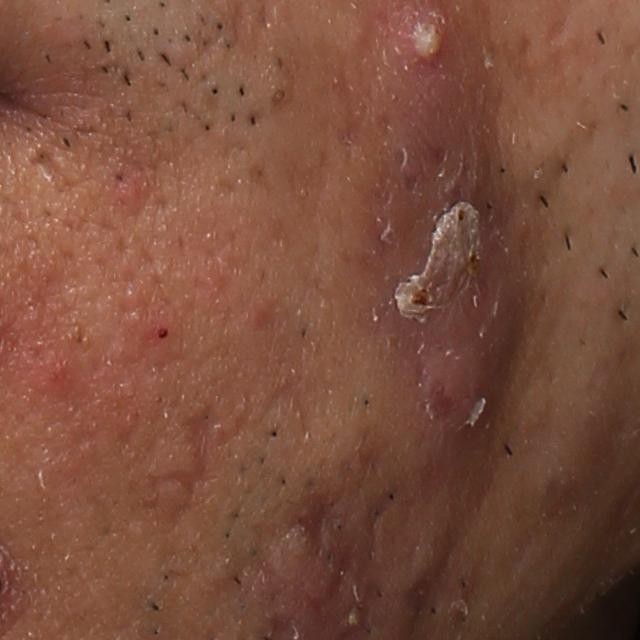atrophic_scar: (143, 406, 215, 510), (22, 144, 72, 192)
papule: (33, 351, 83, 393), (143, 313, 177, 348)
